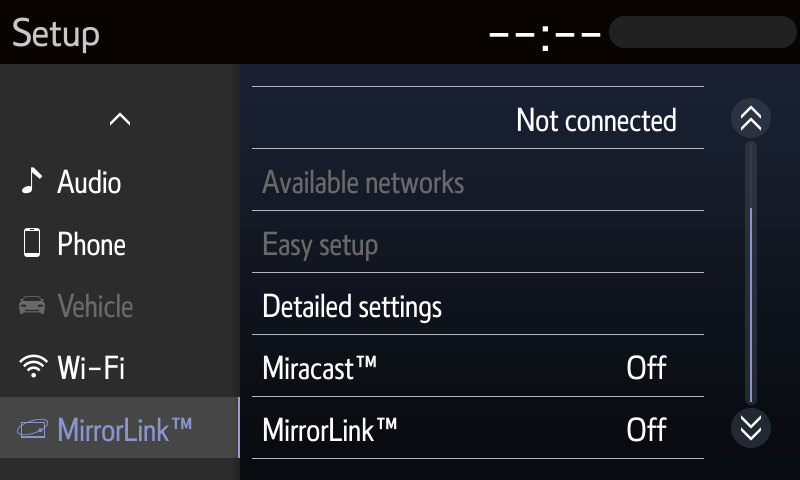touchPart: (248, 390, 710, 467), (246, 267, 706, 340), (246, 331, 712, 402), (246, 82, 710, 151), (13, 221, 141, 262), (12, 343, 133, 386), (22, 161, 126, 201), (726, 99, 776, 139), (734, 407, 774, 449), (99, 105, 140, 135)
untouchPart: (247, 207, 708, 278), (245, 147, 716, 216), (1, 395, 240, 464), (484, 10, 796, 54), (13, 287, 134, 329), (5, 12, 110, 54)
